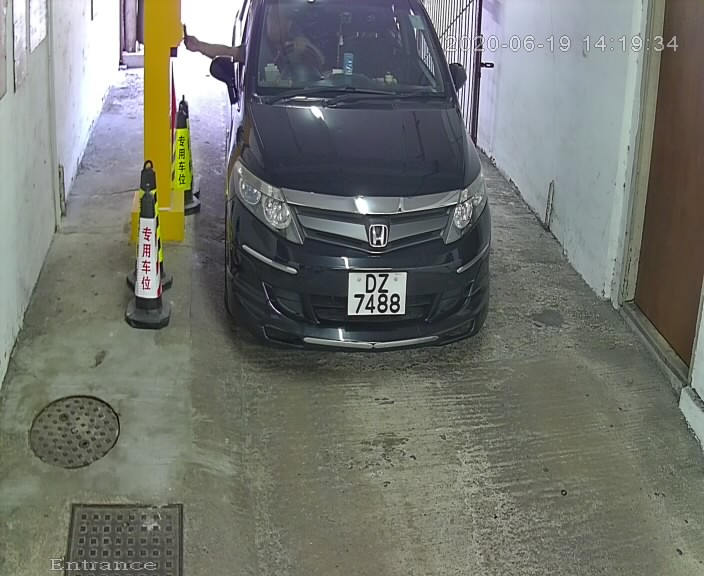privatecar: (202, 3, 512, 371)
